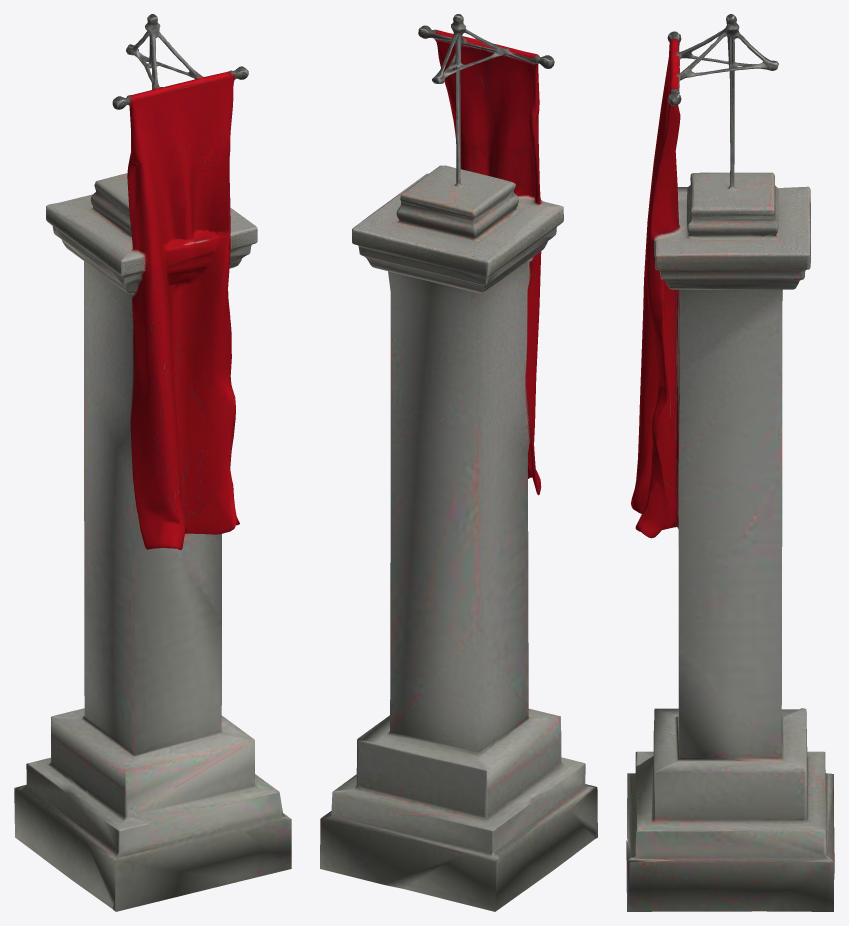
The model's file is banner.glb.
The picture shows the model from 3 angles, left to right: view 1: azimuth 30°, elevation 25°; view 2: azimuth 150°, elevation 25°; view 3: azimuth 270°, elevation 25°; orthographic projection.
Parts seen in each view (by area): view 1: Mesh_0; view 2: Mesh_0; view 3: Mesh_0.
Boxes of the visible parts, x1,y1,x2,y2 form: Mesh_0: (14,14,291,911); Mesh_0: (320,14,597,911); Mesh_0: (626,14,834,911).
Bounding box in the file's own units: 0.42 × 1.9 × 0.42.
Materials: 1 (1 with a texture image).
